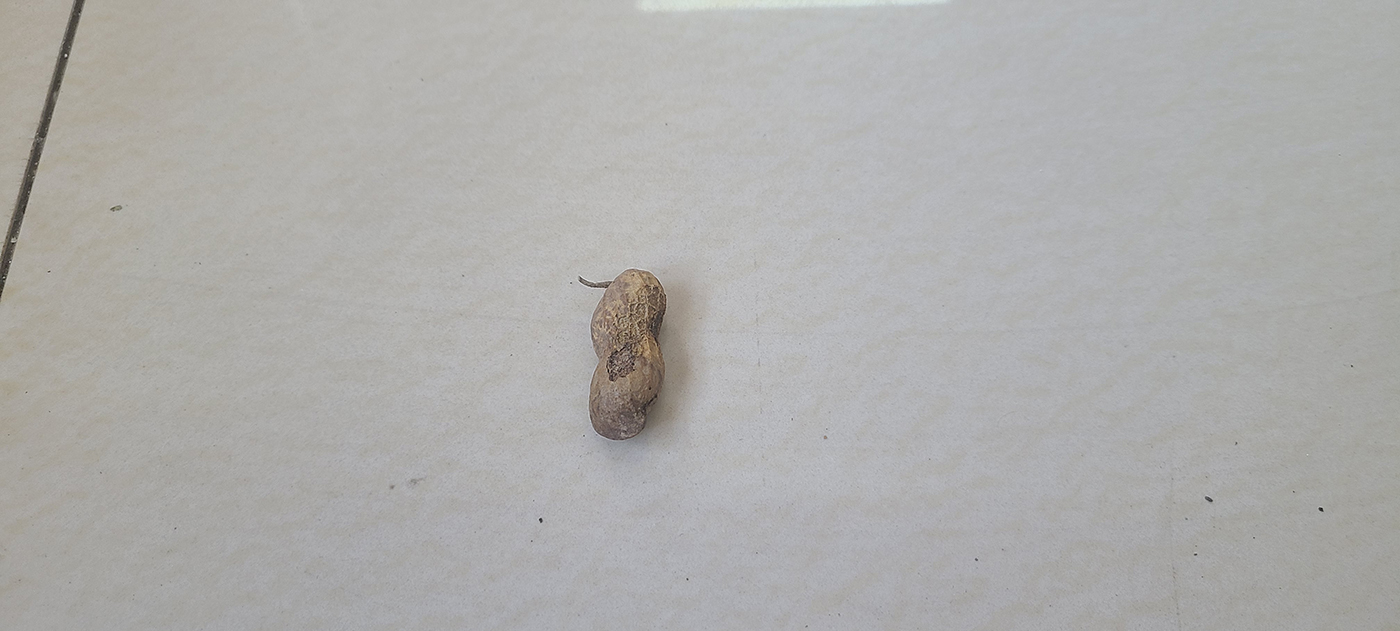l: (584, 269, 669, 441)
